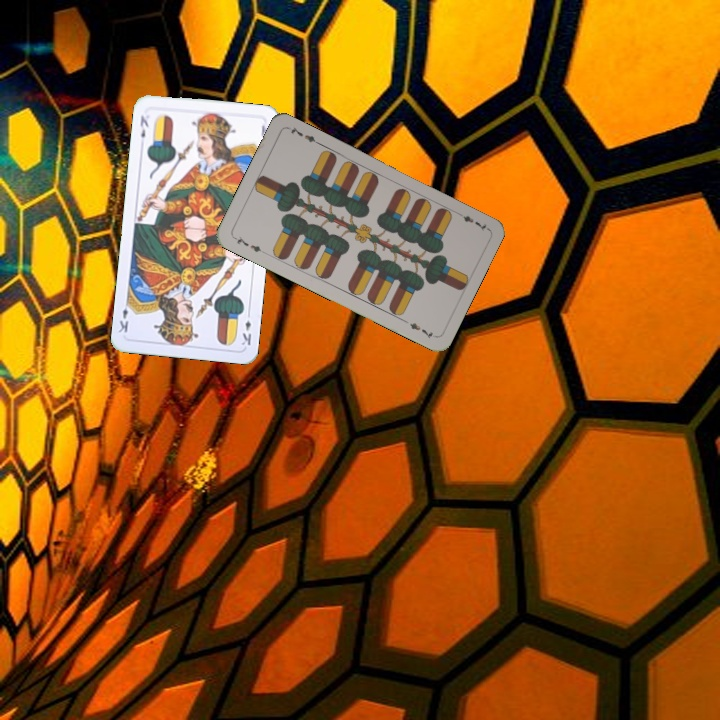E7: (452, 208, 490, 234), (230, 232, 268, 257)
EK: (238, 307, 254, 348), (136, 111, 151, 141)
